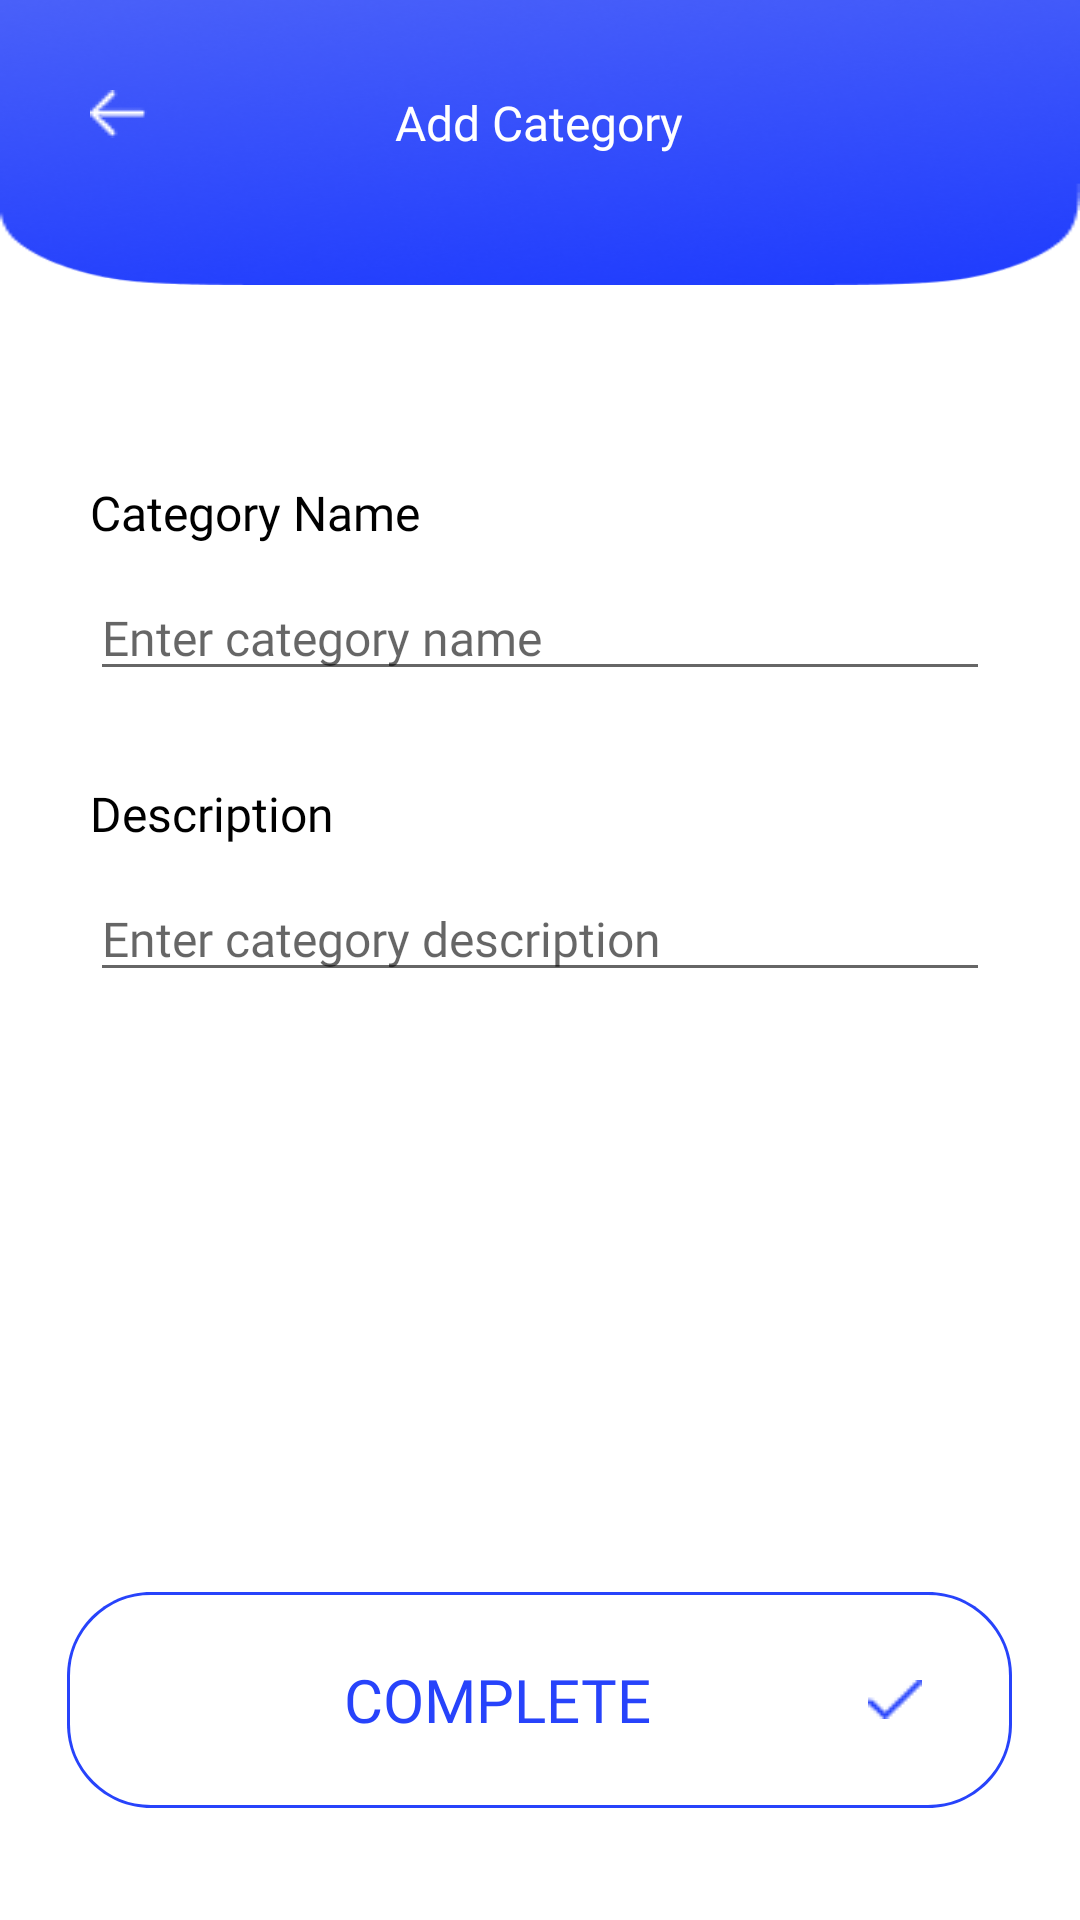

Where to tap for icons on this 1080 × 1920 app screen, as point (x, y):
back: point (117, 113)
